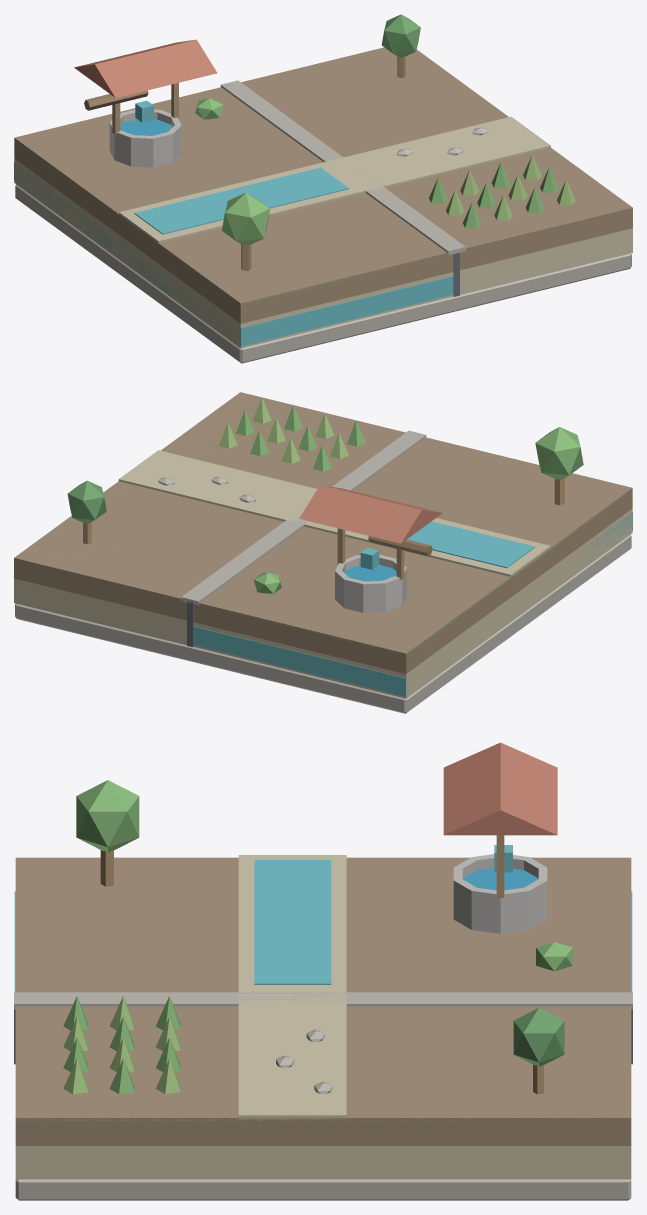
Rendered from agua__barragem_subterranea.glb.
3 renders of one model, top to bottom at view 1: azimuth 30°, elevation 25°; view 2: azimuth 150°, elevation 25°; view 3: azimuth 270°, elevation 25°, orthographic. The views are drawn at different scales.
Parts seen in each view (by area): view 1: agua__barragem_subterranea; view 2: agua__barragem_subterranea; view 3: agua__barragem_subterranea.
Part boxes in pixels (left/top/right/bottom): agua__barragem_subterranea: left=14, top=14, right=632, bottom=363; agua__barragem_subterranea: left=14, top=392, right=632, bottom=713; agua__barragem_subterranea: left=14, top=742, right=632, bottom=1200.
Bounding box in the file's own units: 4 × 1.58 × 4.02.
